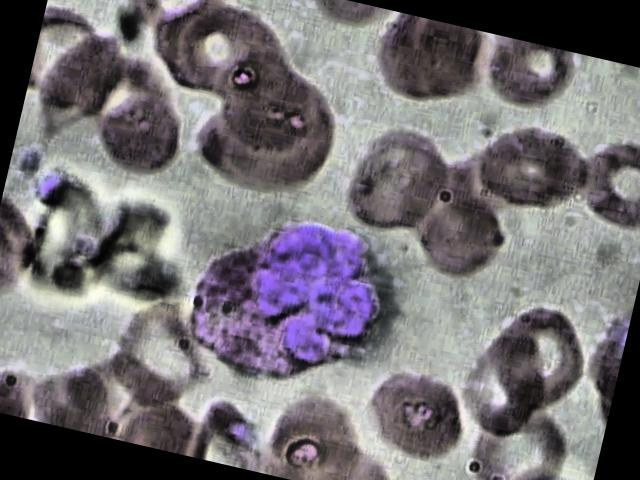RBC: (336, 114, 458, 241), (472, 112, 600, 221), (482, 295, 595, 417), (364, 9, 491, 117), (352, 360, 468, 470), (457, 390, 579, 480), (90, 82, 191, 184), (456, 332, 546, 438), (474, 34, 582, 118), (570, 130, 640, 234)
WBC: (170, 193, 402, 407)
